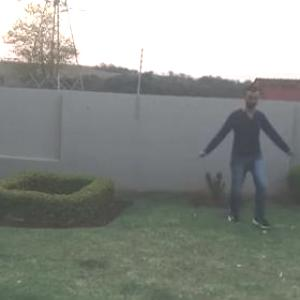land: (202, 101, 294, 229)
